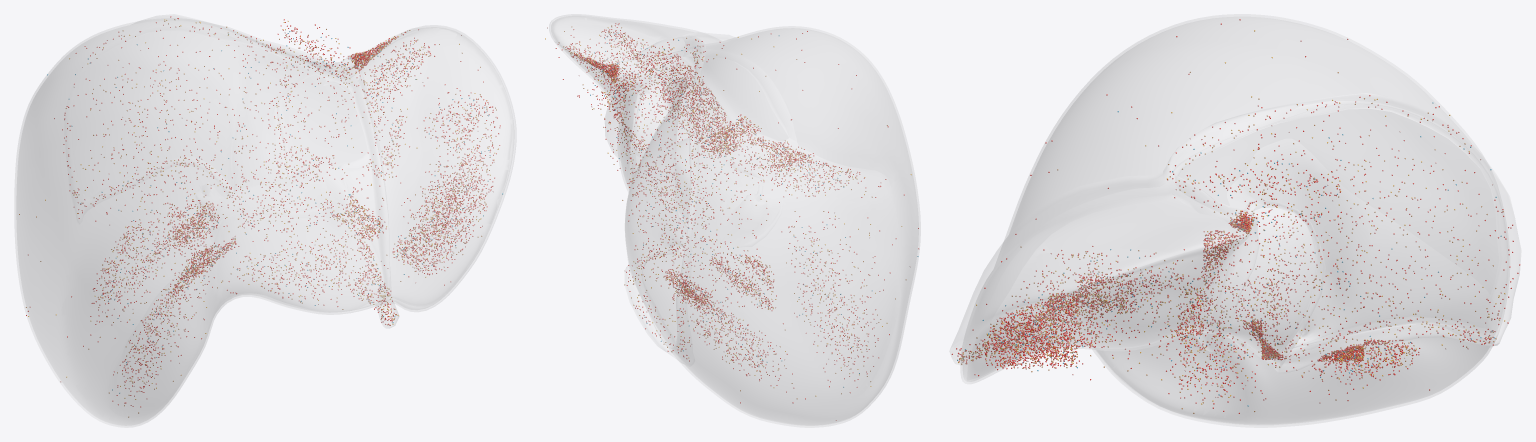
File: 3d-vh-m-liver-UBERON_0002107-all-as-pan-human-azimuth-sphere-hra-pop.glb
3 renders of one model, left to right at view 1: azimuth 30°, elevation 25°; view 2: azimuth 150°, elevation 25°; view 3: azimuth 270°, elevation 25°, orthographic. The views are drawn at different scales.
Parts seen in each view (by area): view 1: VH_M_liver_capsule, VH_M_left_anterolateral_segment, VH_M_right_posterosuperior_segment, VH_M_left_posterolateral_segment, VH_M_right_posteroinferior_segment, VH_M_right_anteroinferior_segment, VH_M_coronary_ligament_of_liver; view 2: VH_M_liver_capsule, VH_M_right_anteroinferior_segment, VH_M_coronary_ligament_of_liver, VH_M_bare_area_of_liver, VH_M_right_posteroinferior_segment, VH_M_right_posterosuperior_segment, VH_M_left_posterolateral_segment, VH_M_ligamentum_venosum, VH_M_falciform_ligament, VH_M_right_anterosuperior_segment; view 3: VH_M_liver_capsule, VH_M_right_posterosuperior_segment, VH_M_coronary_ligament_of_liver, VH_M_right_anterosuperior_segment, VH_M_falciform_ligament, VH_M_ligamentum_venosum, VH_M_left_anterolateral_segment.
Part boxes in pixels (box(x1,y1,x2,y2)): VH_M_liver_capsule: box(15, 18, 515, 427); VH_M_left_anterolateral_segment: box(387, 170, 507, 305); VH_M_right_posterosuperior_segment: box(18, 22, 150, 169); VH_M_left_posterolateral_segment: box(371, 28, 512, 170); VH_M_right_posteroinferior_segment: box(17, 174, 54, 368); VH_M_right_anteroinferior_segment: box(69, 219, 225, 423); VH_M_coronary_ligament_of_liver: box(135, 14, 361, 78); VH_M_liver_capsule: box(549, 14, 920, 427); VH_M_right_anteroinferior_segment: box(837, 144, 917, 421); VH_M_coronary_ligament_of_liver: box(625, 36, 705, 364); VH_M_bare_area_of_liver: box(627, 90, 689, 281); VH_M_right_posteroinferior_segment: box(652, 312, 828, 424); VH_M_right_posterosuperior_segment: box(625, 157, 647, 287); VH_M_left_posterolateral_segment: box(553, 17, 691, 50); VH_M_ligamentum_venosum: box(605, 82, 620, 159); VH_M_falciform_ligament: box(682, 32, 736, 56); VH_M_right_anterosuperior_segment: box(843, 43, 898, 120); VH_M_liver_capsule: box(961, 14, 1509, 427); VH_M_right_posterosuperior_segment: box(1309, 28, 1506, 278); VH_M_coronary_ligament_of_liver: box(1163, 93, 1520, 372); VH_M_right_anterosuperior_segment: box(1107, 17, 1310, 102); VH_M_falciform_ligament: box(952, 172, 1163, 346); VH_M_ligamentum_venosum: box(1194, 221, 1258, 351); VH_M_left_anterolateral_segment: box(963, 269, 998, 378).
Size of the model in its own units: 0.1914 by 0.1746 by 0.2018.
